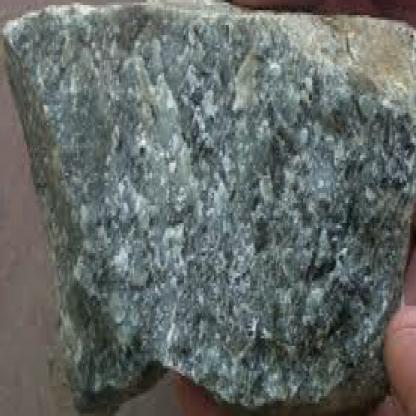Metamorphic_Quartize: (1, 0, 415, 414)
